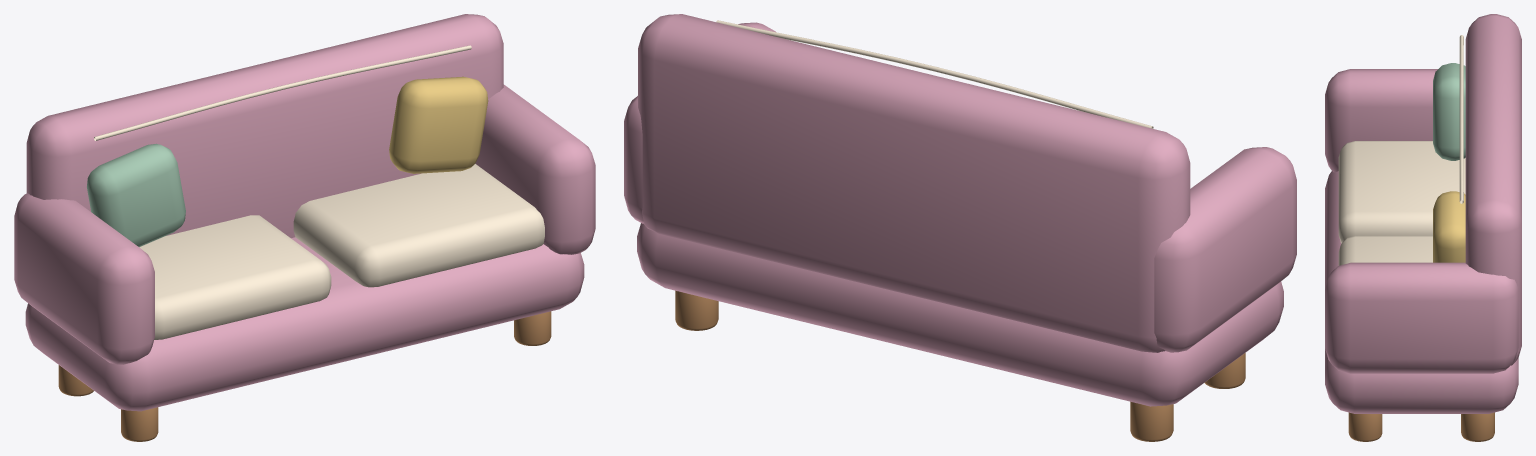
The model's file is sofa.glb.
The picture shows the model from 3 angles, left to right: view 1: azimuth 30°, elevation 25°; view 2: azimuth 150°, elevation 25°; view 3: azimuth 270°, elevation 25°; orthographic projection. The views are drawn at different scales.
Visible parts, largest first — view 1: AssetSurface; view 2: AssetSurface; view 3: AssetSurface.
Part boxes in pixels (box(x1,y1,x2,y2)): AssetSurface: box(14, 14, 595, 441); AssetSurface: box(624, 14, 1296, 441); AssetSurface: box(1325, 14, 1521, 441).
Size of the model in its own units: 2.29 by 1.18 by 0.875.
